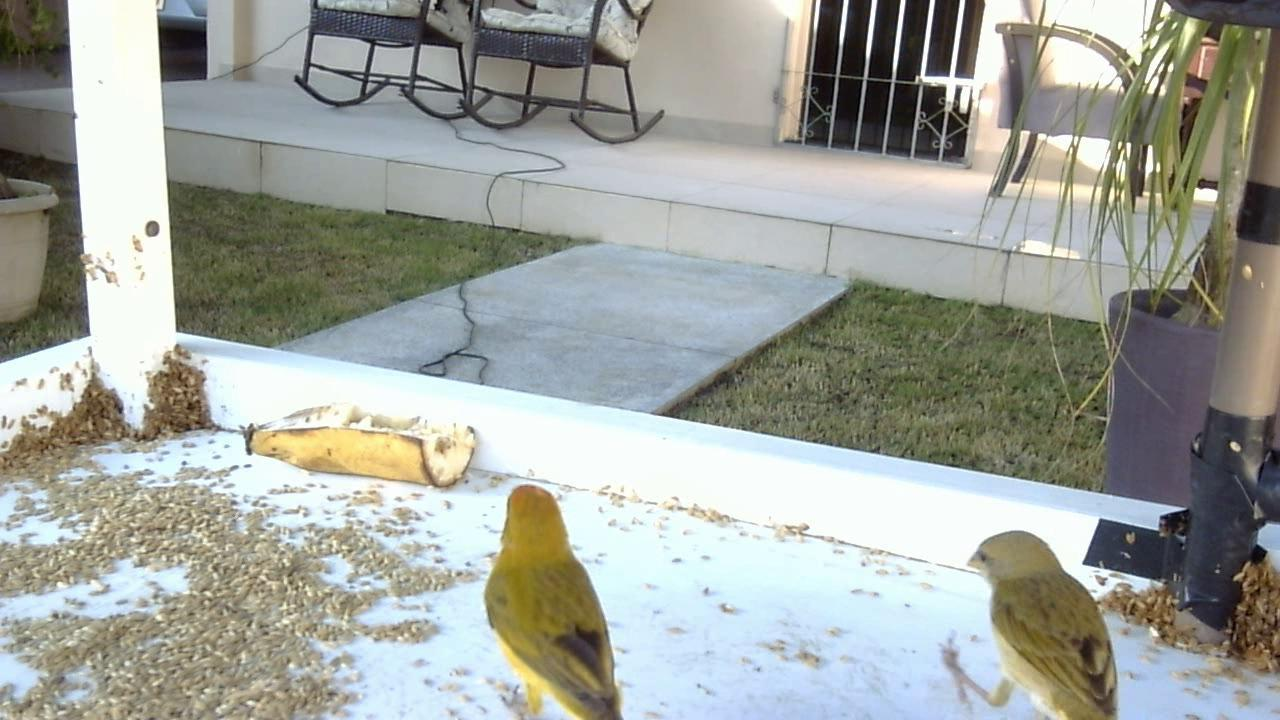canario_do_amazonas: (476, 475, 627, 718), (947, 527, 1128, 716)
